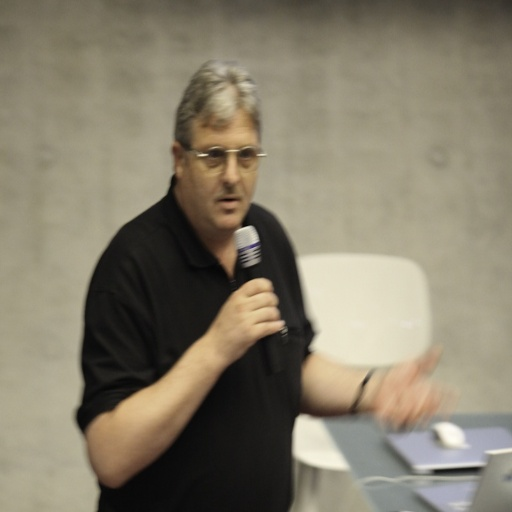hand: (370, 342, 448, 433), (216, 282, 272, 350)
